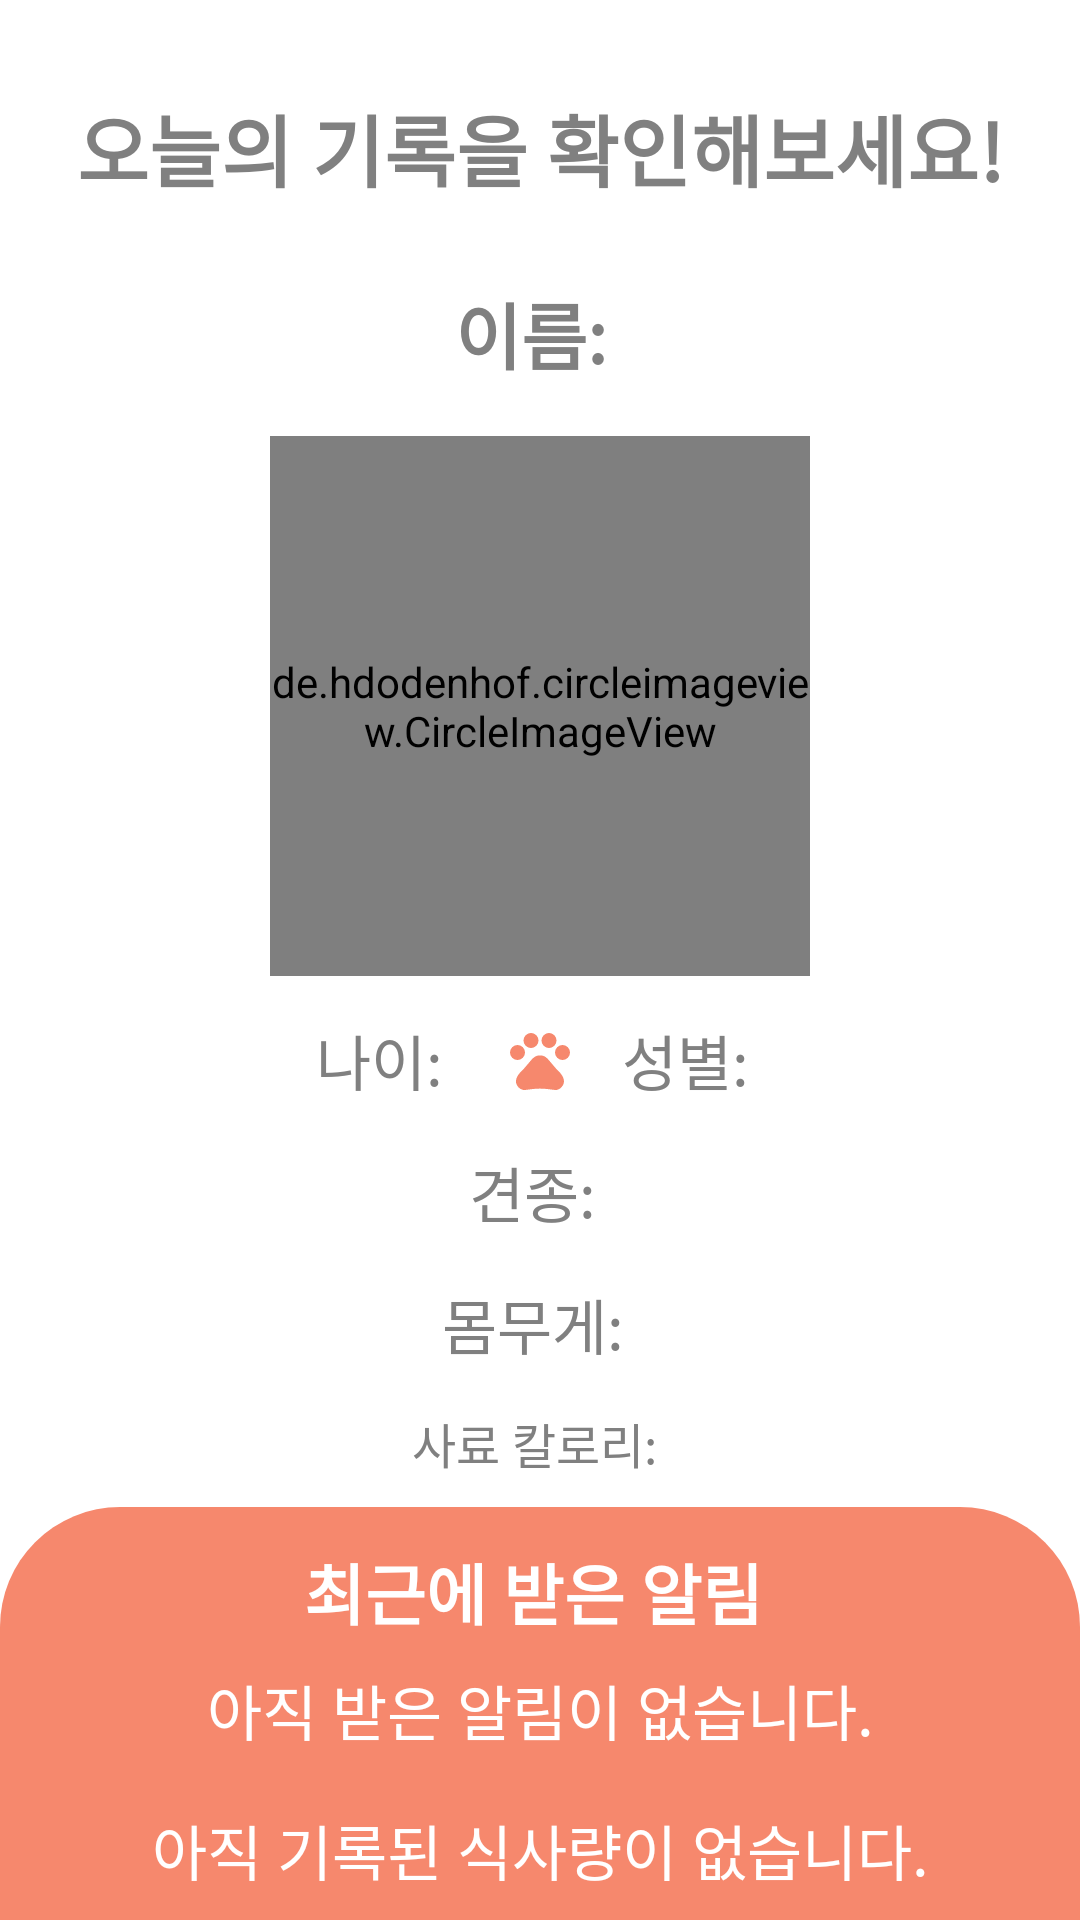

Named icons in this screenshot (1080×1920) and their centers, [x,y]:
pets: [540,1061]
